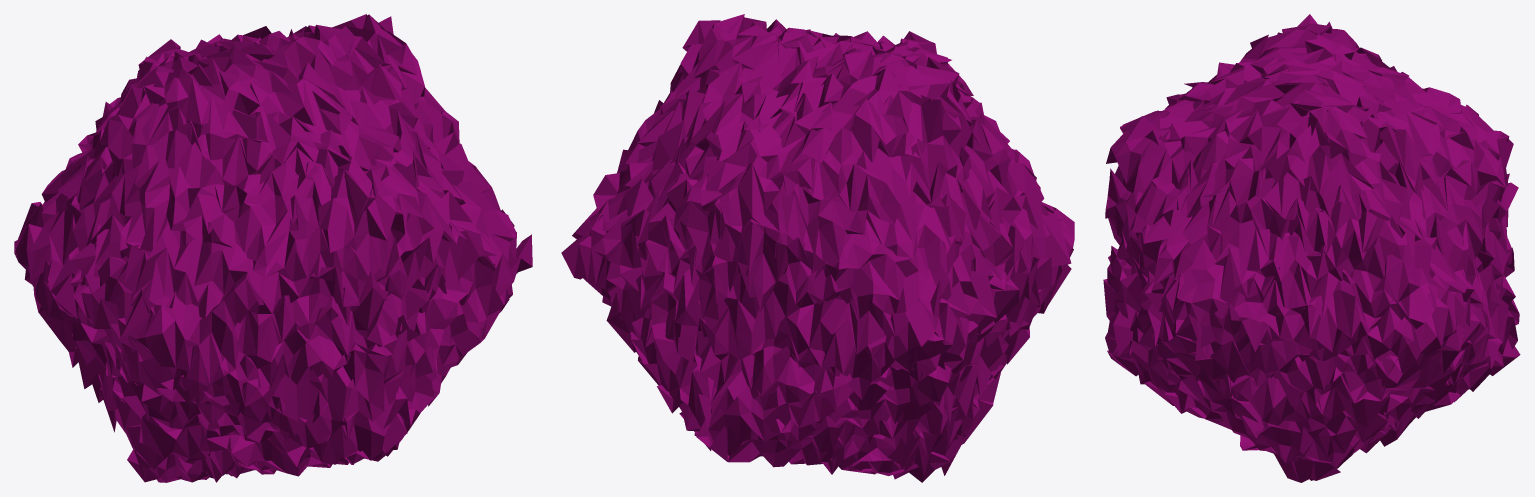
Rendered from pink object.obj.
3 renders of one model, left to right at view 1: azimuth 30°, elevation 25°; view 2: azimuth 150°, elevation 25°; view 3: azimuth 270°, elevation 25°, orthographic. The views are drawn at different scales.
Visible parts, largest first — view 1: Platonic; view 2: Platonic; view 3: Platonic.
Part boxes in pixels (bbox=[...]): Platonic: bbox=[14, 14, 532, 482]; Platonic: bbox=[561, 14, 1074, 482]; Platonic: bbox=[1103, 14, 1520, 482].
Size of the model in its own units: 150 by 150 by 149.
